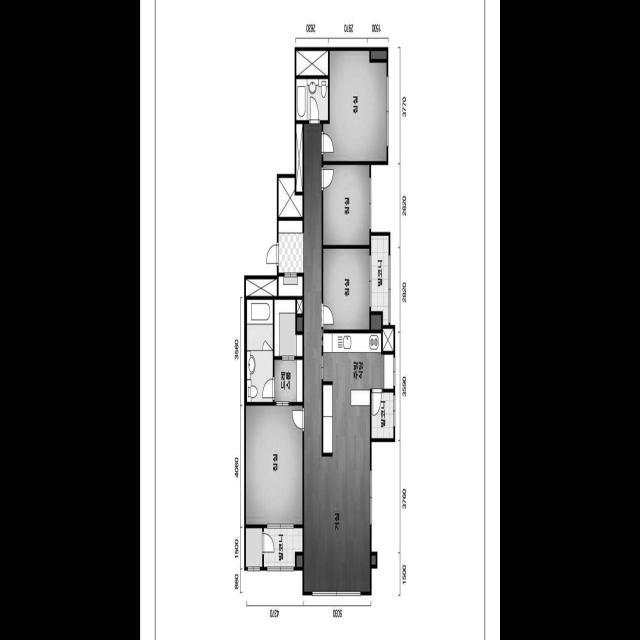background: (140, 0, 500, 640)
space_balconi: (371, 235, 389, 325), (264, 527, 302, 566), (371, 392, 393, 438)
space_bedroom: (323, 50, 387, 161), (246, 405, 302, 524), (323, 164, 369, 245), (323, 248, 369, 329)
space_dressroom: (274, 299, 302, 356), (274, 359, 303, 401)
space_front: (279, 220, 304, 296)
space_kitchen: (323, 333, 393, 452)
space_living_room: (304, 123, 370, 591)
space_other: (279, 177, 303, 217), (296, 50, 328, 75), (246, 528, 262, 566), (246, 278, 277, 296), (296, 123, 303, 191), (383, 328, 393, 350), (371, 314, 381, 329), (371, 50, 386, 58), (297, 299, 303, 313), (297, 317, 302, 331), (297, 555, 302, 566)
space_toilet: (247, 299, 273, 401), (296, 78, 328, 120)
